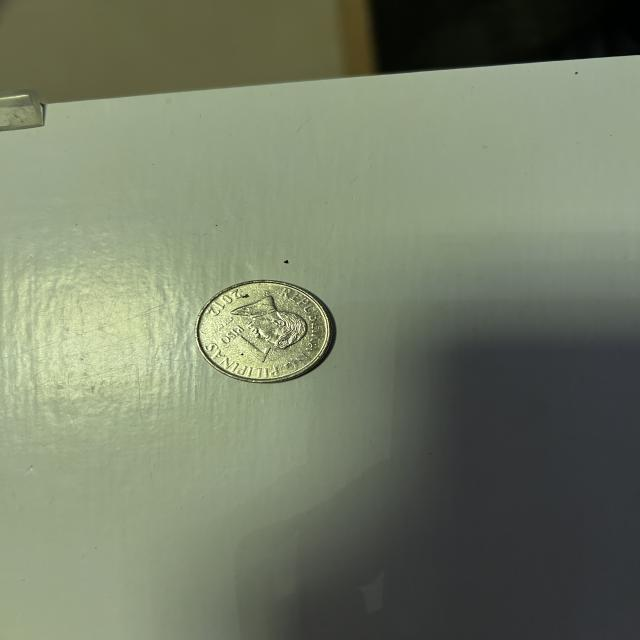1_Old_Front: (218, 327, 277, 367)
